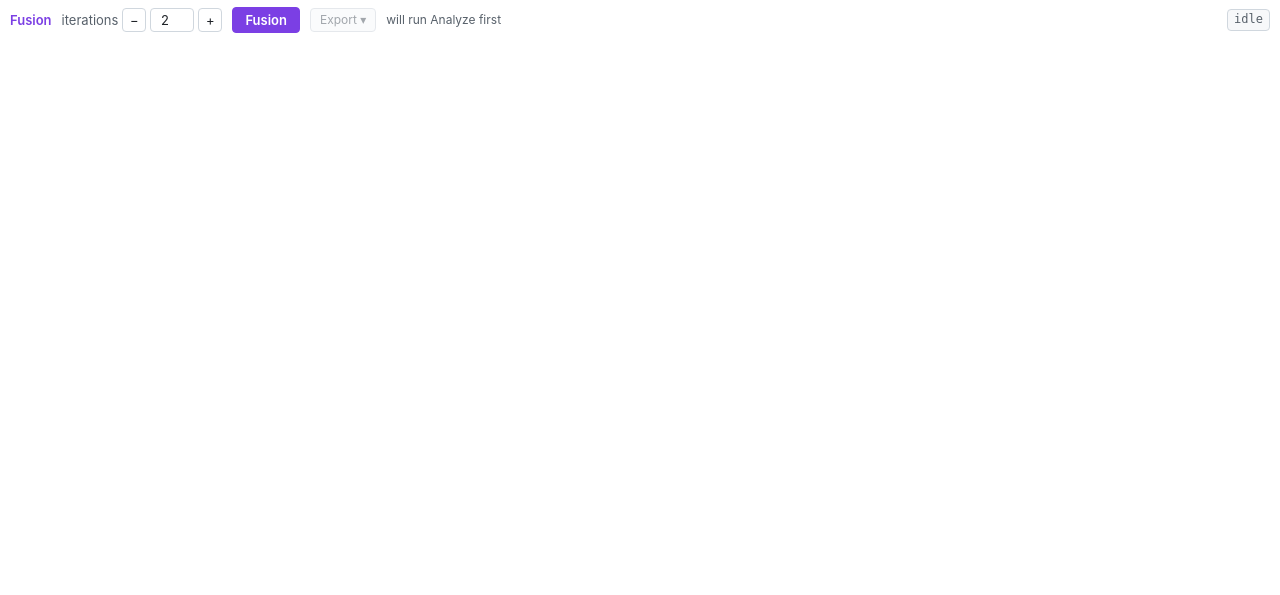
Test: FusionPane: running a stream › auto-run path: topics come from analyze_done on the fusion stream before any refetch
Expected: the text with test id "fusion-gate-hint" reads "will run Analyze first", [386,12,501,27]
Click the button with test id "fusion-run" at (266, 20), box [232,7,300,33]
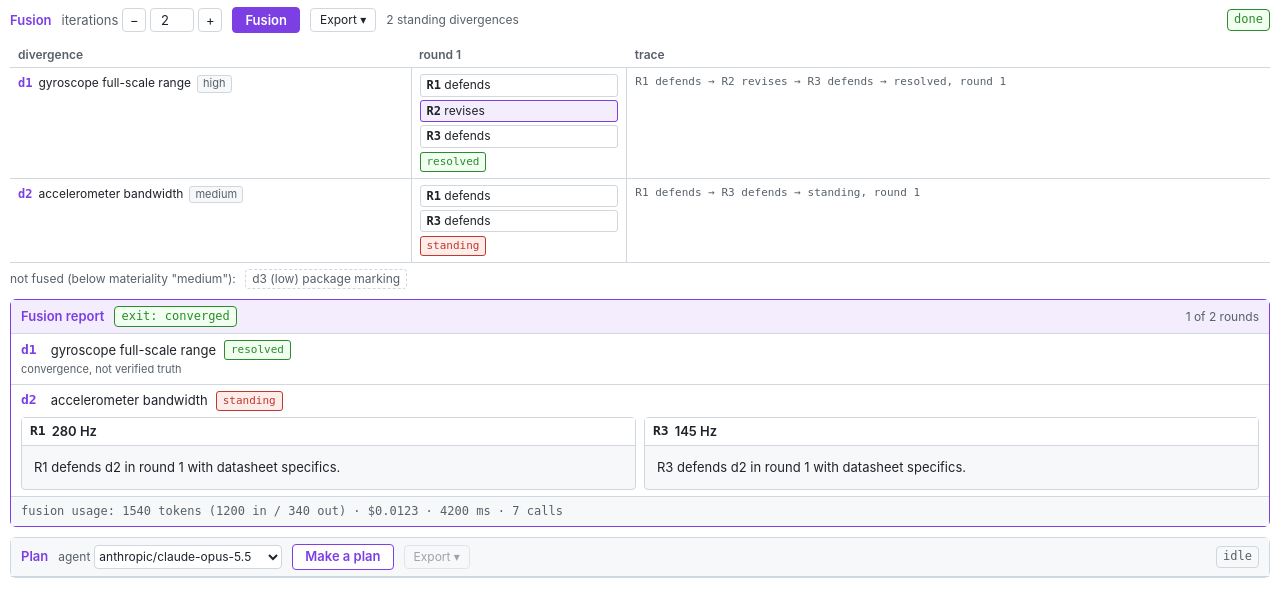
Result: the element with test id "fusion-final" is shown at [10,299,1270,527]
Result: the text with test id "fusion-topic-d1" reads "gyroscope full-scale range" at [38,75,191,90]
